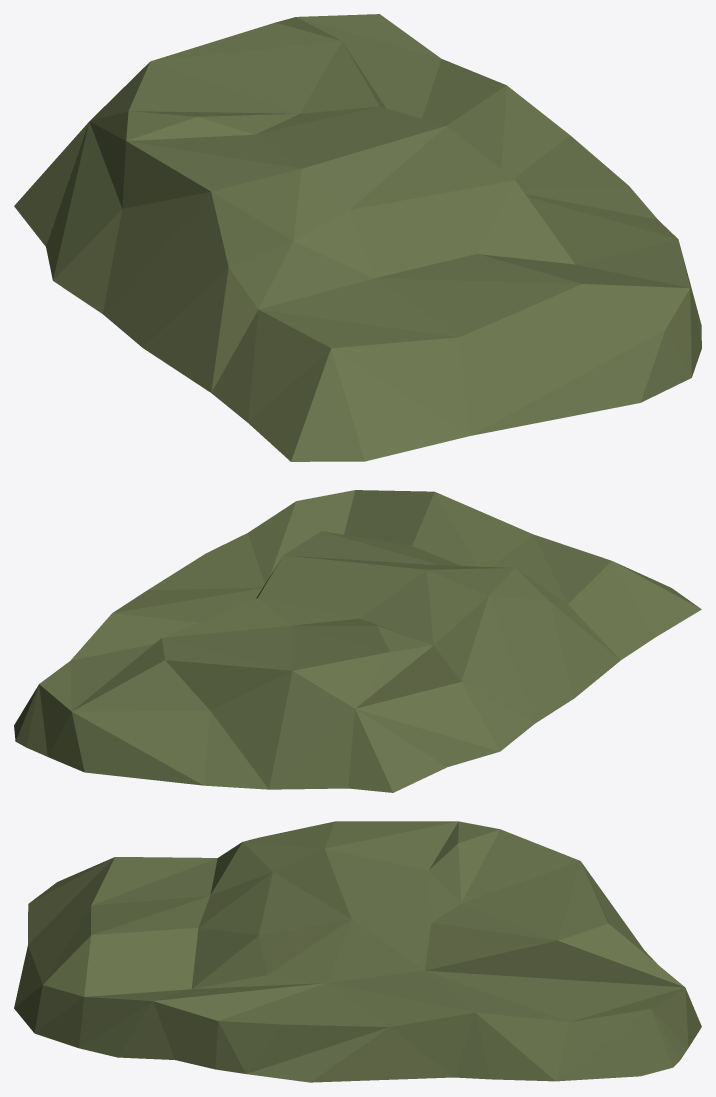
File: SM_Envr_Nature_Terrain_Ground_Grass_04.fbx
3 renders of one model, top to bottom at view 1: azimuth 30°, elevation 25°; view 2: azimuth 150°, elevation 25°; view 3: azimuth 270°, elevation 25°, orthographic. The views are drawn at different scales.
Parts seen in each view (by area): view 1: SM_Envr_Nature_Terrain_Ground_Grass_04; view 2: SM_Envr_Nature_Terrain_Ground_Grass_04; view 3: SM_Envr_Nature_Terrain_Ground_Grass_04.
Part boxes in pixels (x1,y1,x2,y2): SM_Envr_Nature_Terrain_Ground_Grass_04: (14,14,701,461); SM_Envr_Nature_Terrain_Ground_Grass_04: (14,490,701,792); SM_Envr_Nature_Terrain_Ground_Grass_04: (14,821,701,1082).
Bounding box in the file's own units: 249 × 59.54 × 361.
